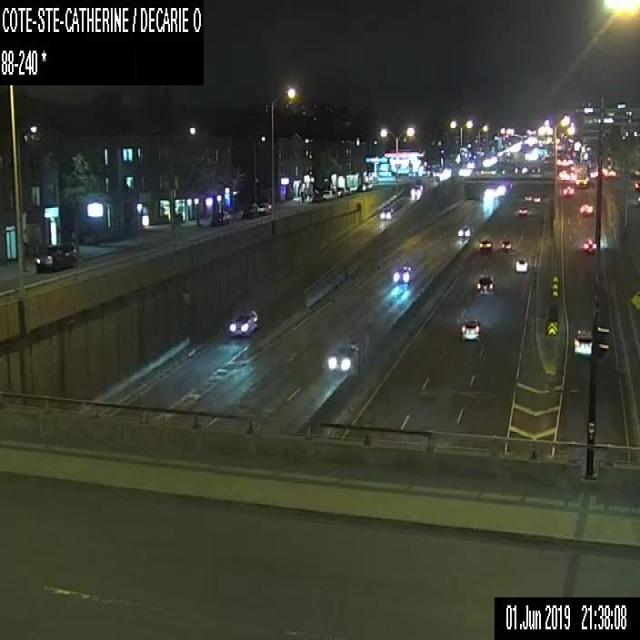vehicle: (327, 342, 359, 370), (227, 309, 258, 335), (35, 244, 62, 272), (573, 329, 591, 354), (460, 317, 479, 340), (392, 264, 412, 284), (476, 274, 494, 294), (574, 166, 588, 188), (212, 210, 231, 226), (515, 256, 527, 271), (458, 223, 470, 237), (478, 238, 492, 250), (584, 238, 596, 252), (258, 200, 270, 213), (379, 207, 392, 219), (500, 239, 512, 251), (410, 184, 422, 196), (580, 203, 592, 213), (322, 190, 336, 198), (361, 181, 372, 191), (562, 185, 574, 194), (517, 207, 528, 215), (524, 195, 531, 200), (533, 197, 540, 201)
